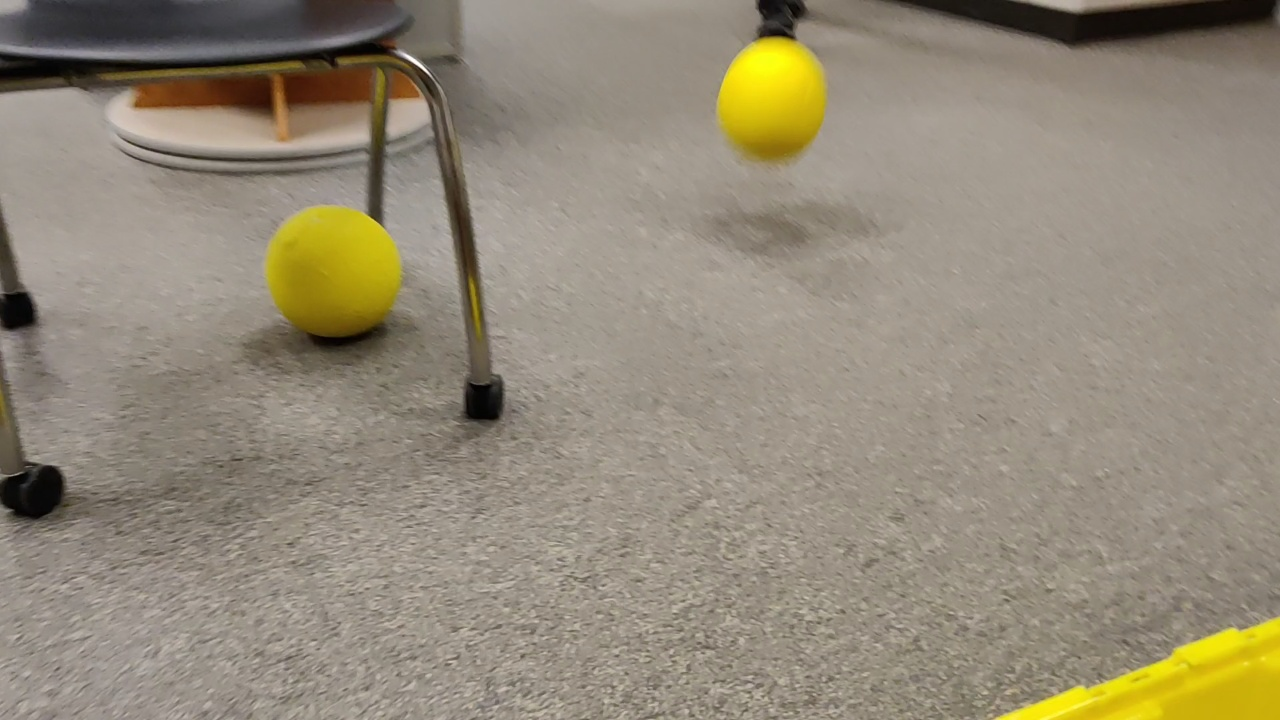Ball: (258, 202, 410, 342), (707, 33, 830, 171)
